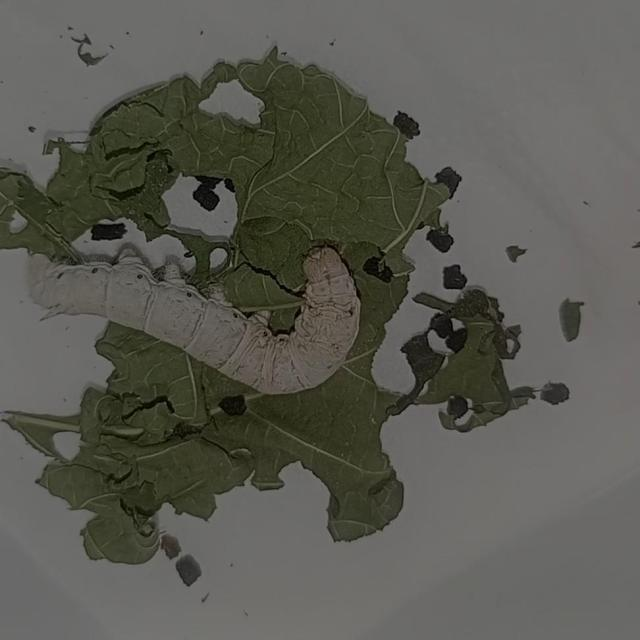Healthy: (19, 237, 368, 399)
